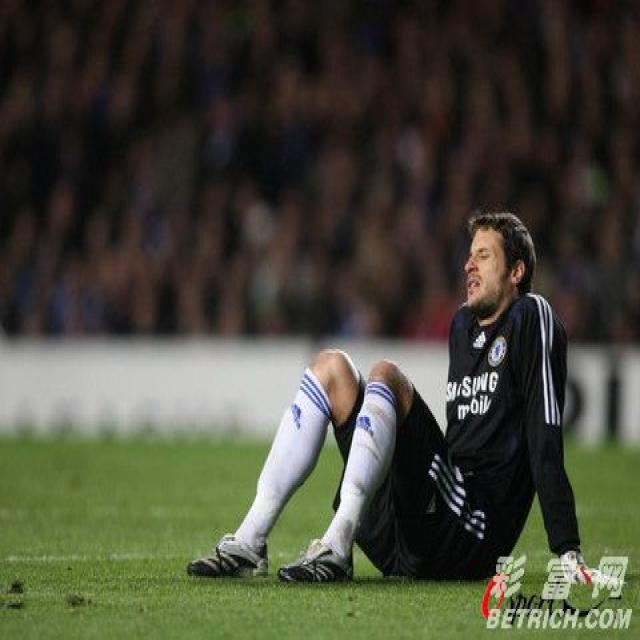fall: (187, 213, 580, 582)
